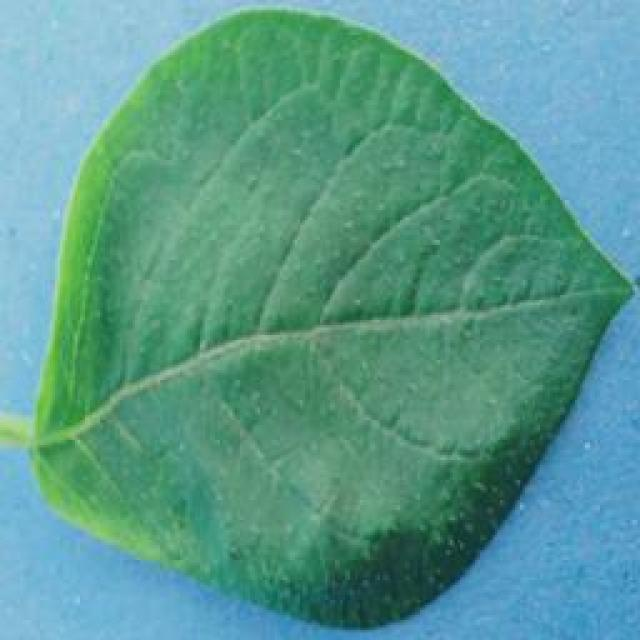Potato_Healthy: (14, 4, 632, 627)
